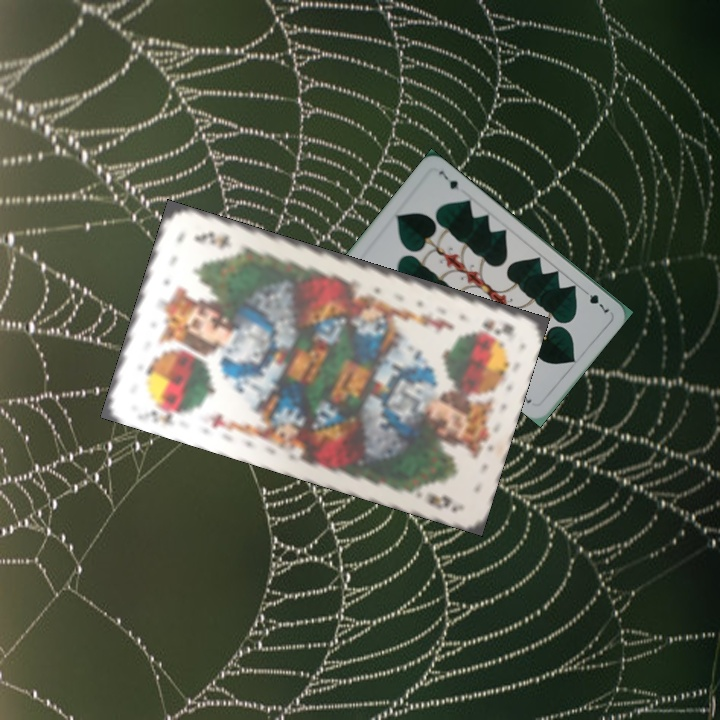G7: (578, 285, 612, 315)
SK: (478, 315, 517, 341), (137, 406, 177, 427)
